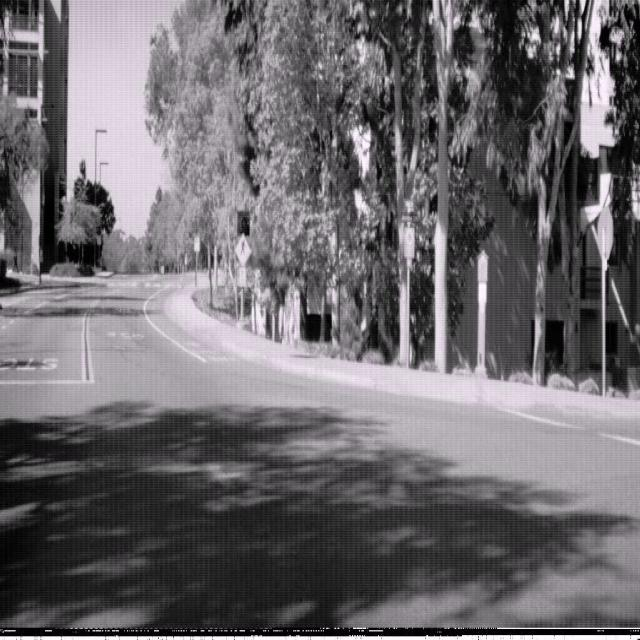pedestrianCrossing: (233, 232, 251, 267)
